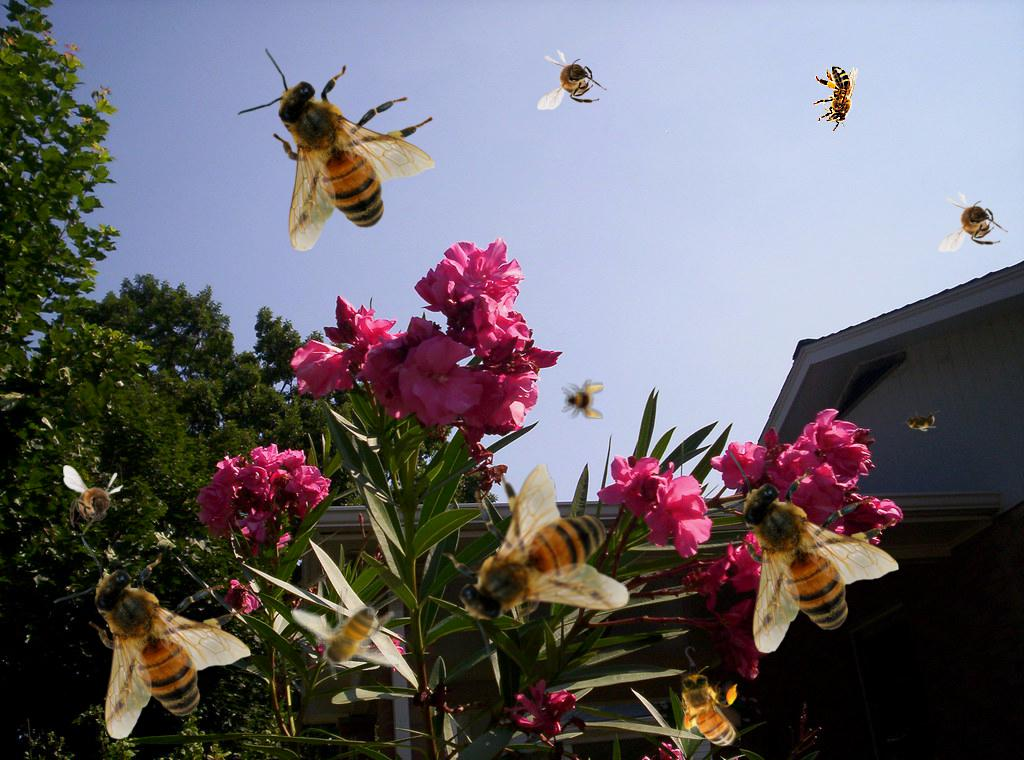Bee: (52, 536, 251, 740), (426, 464, 630, 663), (236, 48, 435, 252), (700, 450, 899, 654), (290, 586, 401, 680), (673, 666, 741, 759), (537, 49, 607, 110), (938, 191, 1008, 252), (63, 465, 124, 535), (813, 66, 858, 132), (561, 377, 605, 421), (900, 410, 940, 432)
